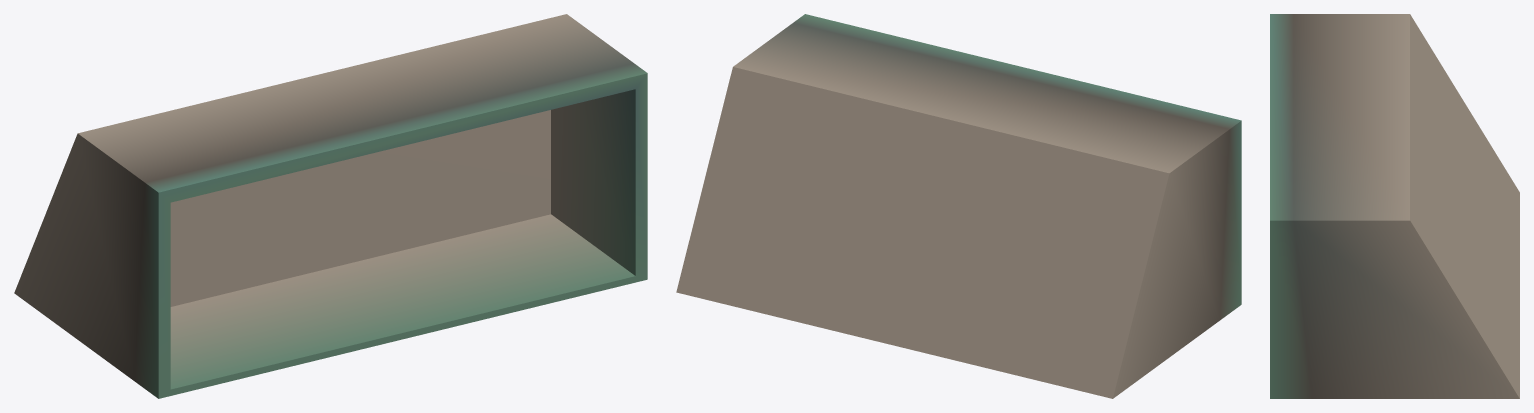
File: goal.fbx
The picture shows the model from 3 angles, left to right: view 1: azimuth 30°, elevation 25°; view 2: azimuth 150°, elevation 25°; view 3: azimuth 270°, elevation 25°; orthographic projection. The views are drawn at different scales.
Visible parts, largest first — view 1: Cube; view 2: Cube; view 3: Cube.
Part boxes in pixels (box(x1,y1,x2,y2)): Cube: box(14, 14, 647, 398); Cube: box(676, 14, 1241, 398); Cube: box(1270, 14, 1519, 398).
Size of the model in its own units: 698 by 281 by 357.
